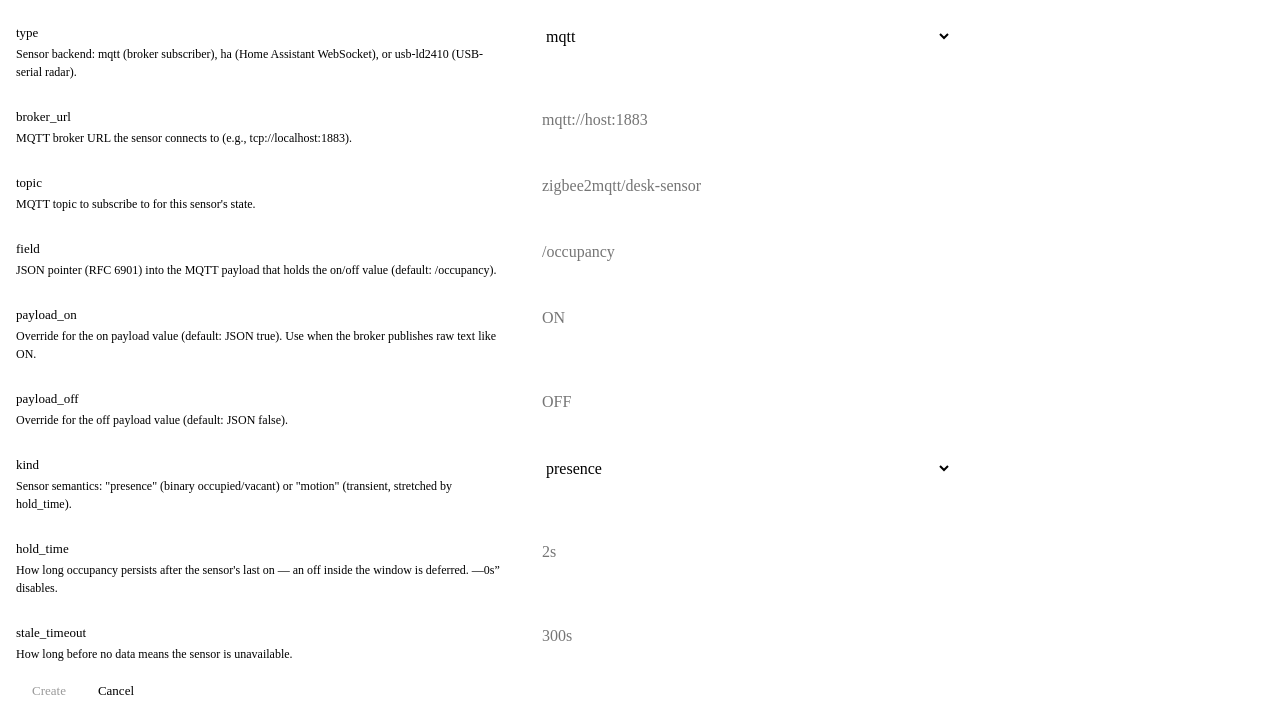
Test: CreateEntityForm — sensors (per-type conditional rendering) › switching type to ha shows url/entity, hides mqtt fields
(page scrolled)
Select "ha" in the dropdown labelled "type": (742, 36) [532, 21, 952, 52]
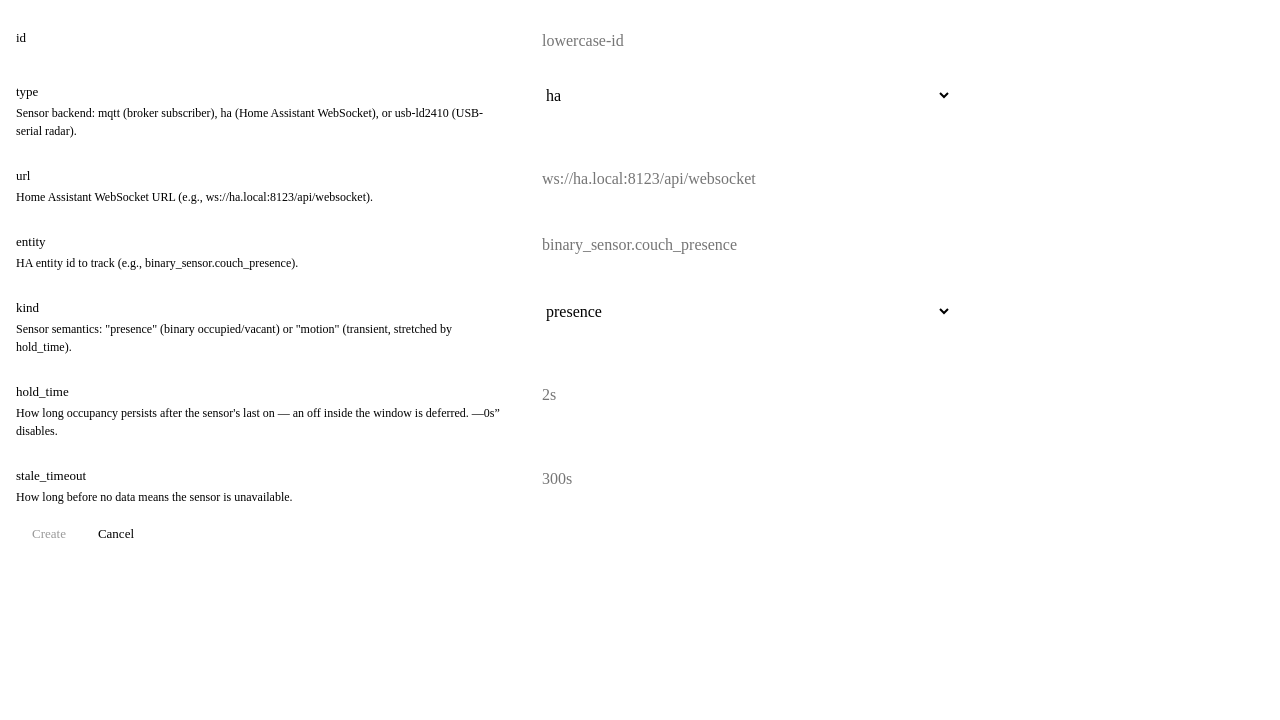
Expected: the field labelled "url" is shown, [532, 164, 952, 194]
Expected: the field labelled "entity" is shown, [532, 230, 952, 260]
Expected: the label labelled "broker_url" is gone
